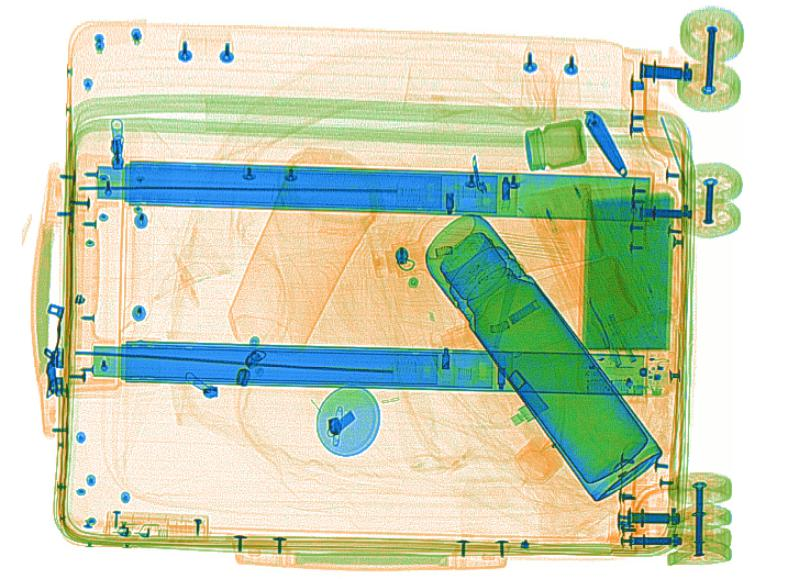plasticBottleWithaNozzle: (426, 255, 637, 377), (364, 182, 604, 284)
